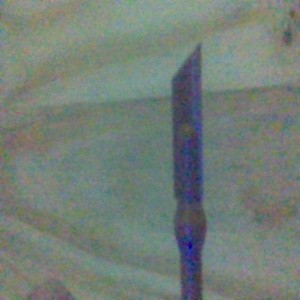cutter: (170, 38, 209, 300)
